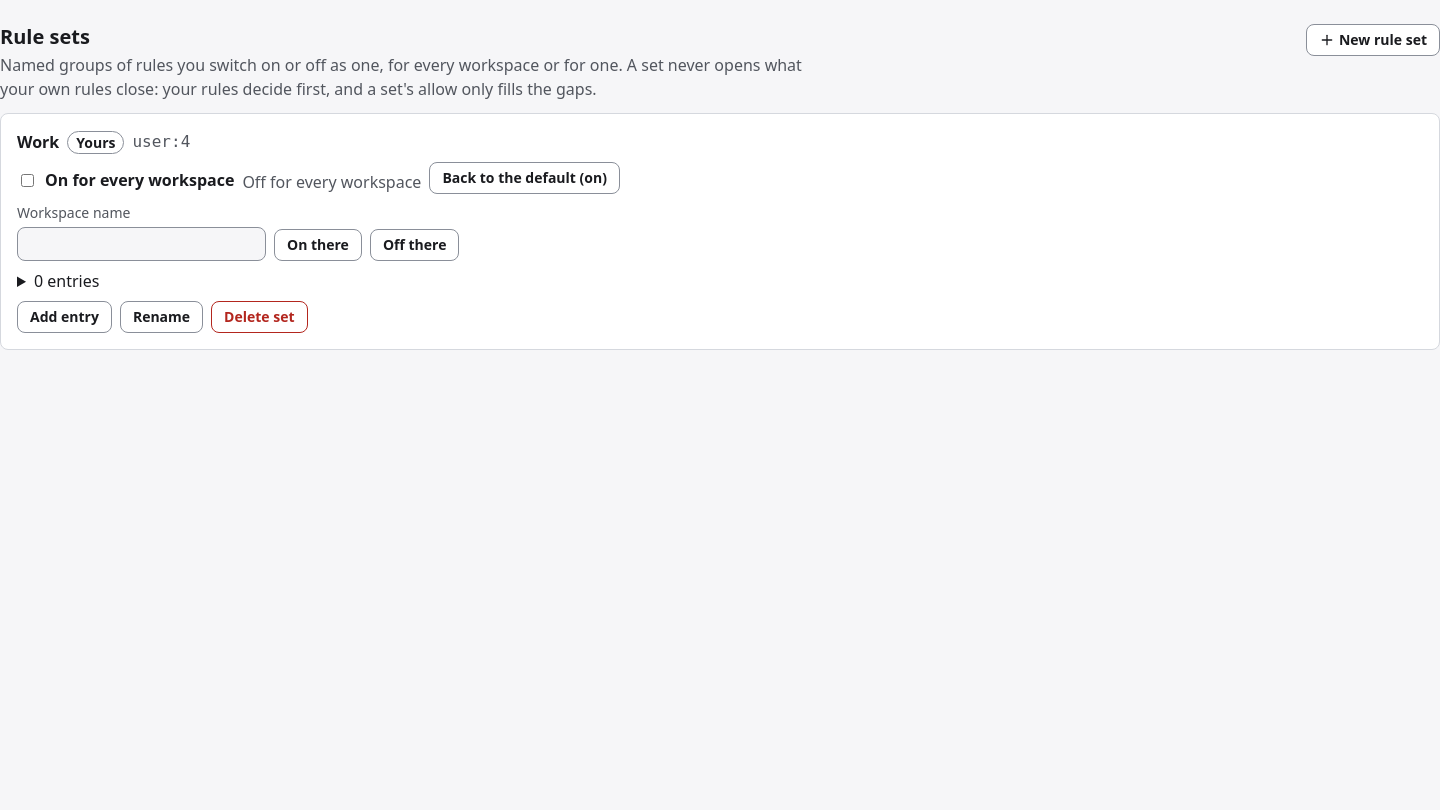
switching › asks too when a set goes back to a default that is on
Click the button "Back to the default (on)".
click(525, 178)  # box x1=429 y1=162 x2=620 y2=194
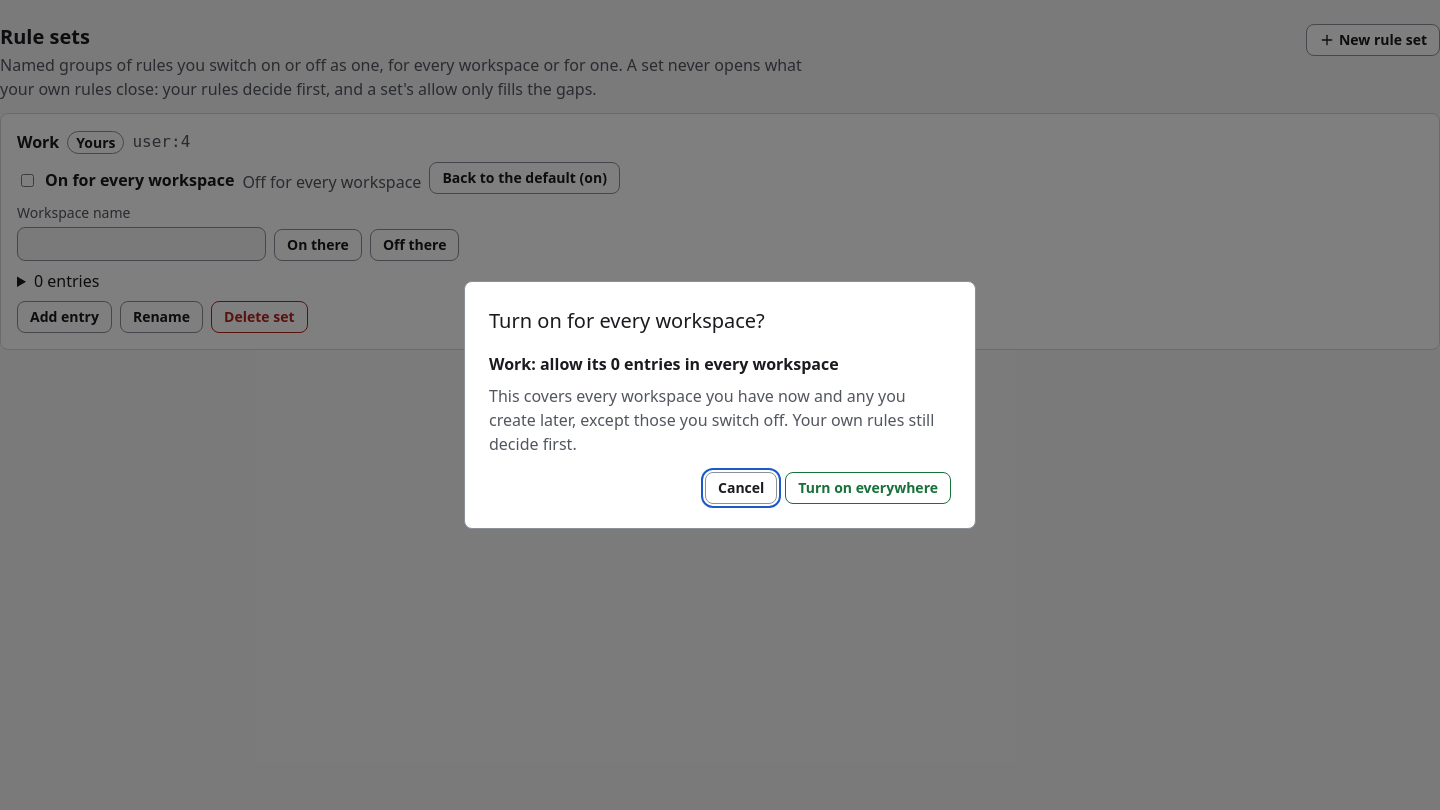
Check: the dialog is shown, box x1=464 y1=281 x2=976 y2=529
